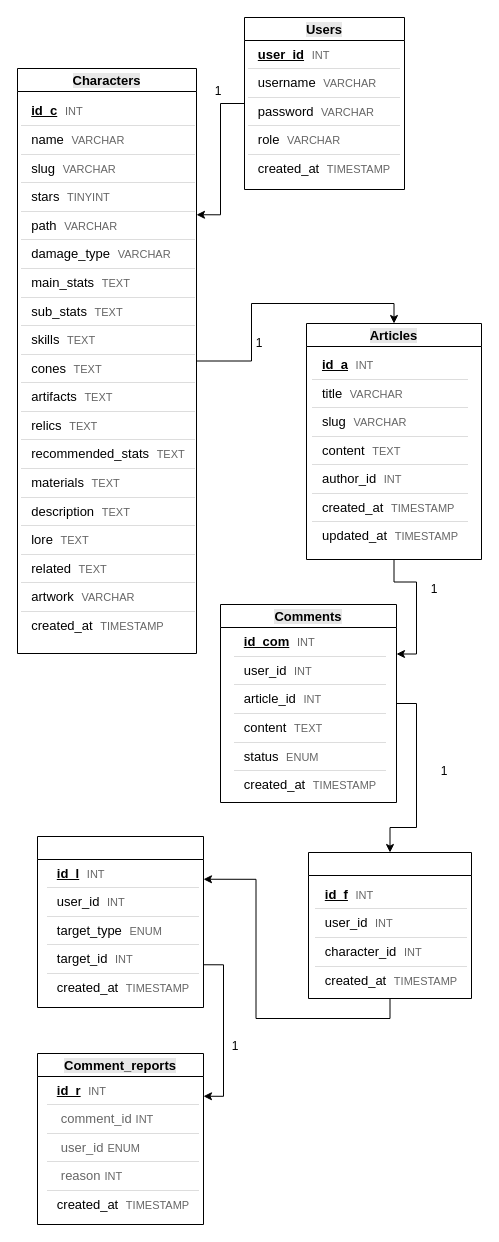
Some shapes in this 499 by 1242 pixel diagram are drawn without their labels. Here are the shapes that lost their labels. From the top down, the box of each, then its label:
(36, 836, 204, 1008): Likes
(308, 852, 472, 998): Favorites
